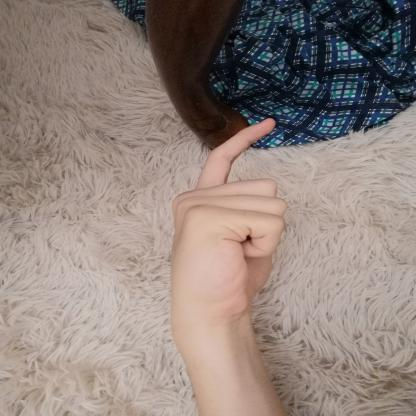RAA: (153, 107, 295, 332)
